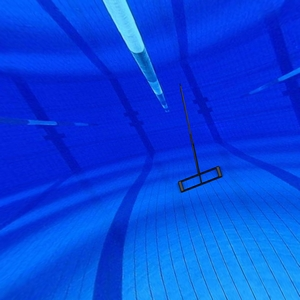circle: (176, 81, 225, 194)
